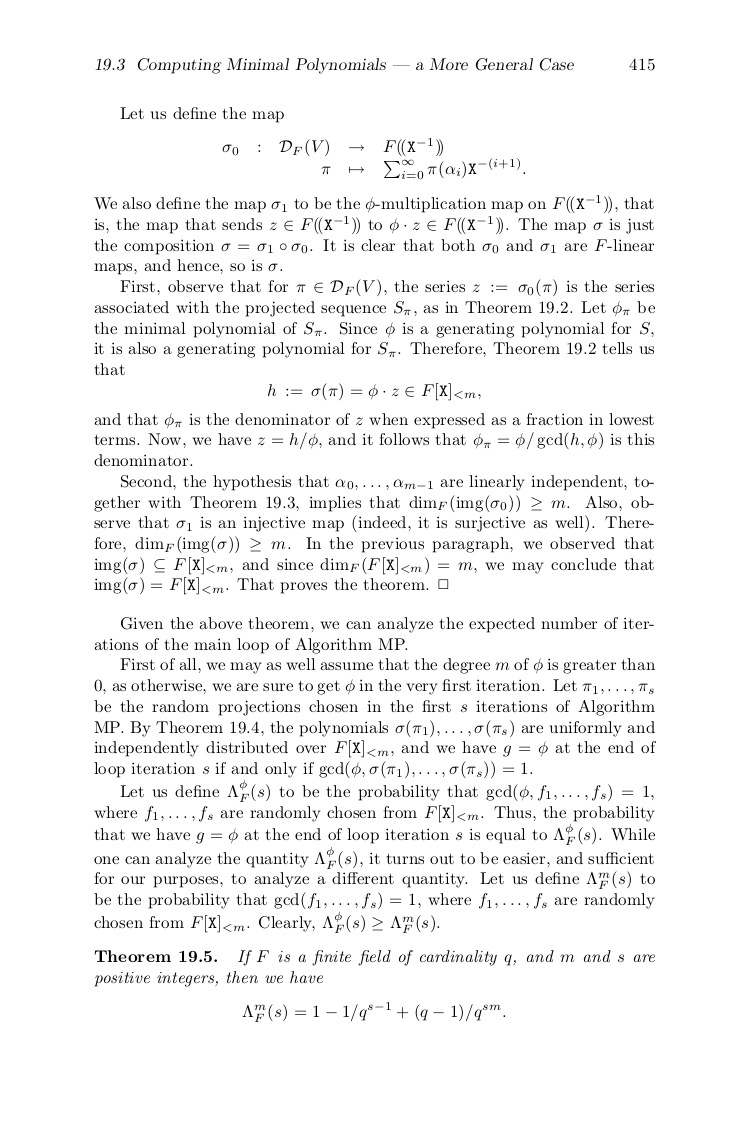formula: (222, 137, 525, 180), (242, 1001, 505, 1022), (268, 382, 480, 401)
